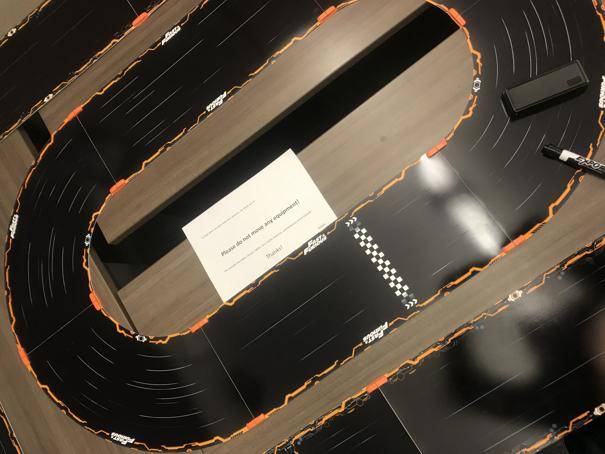Finish Line: (345, 217, 419, 310)
